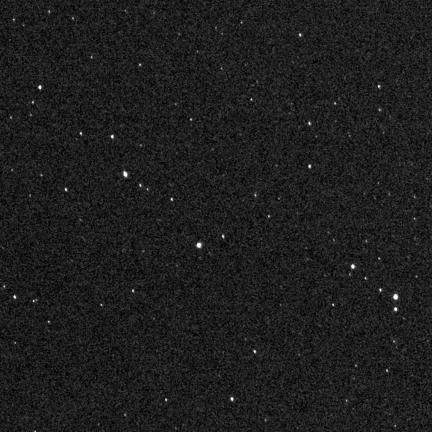blob: (197, 243, 202, 248), (123, 171, 127, 177), (394, 294, 398, 300), (111, 135, 115, 140), (351, 264, 355, 269), (230, 397, 234, 401), (38, 86, 42, 90)
